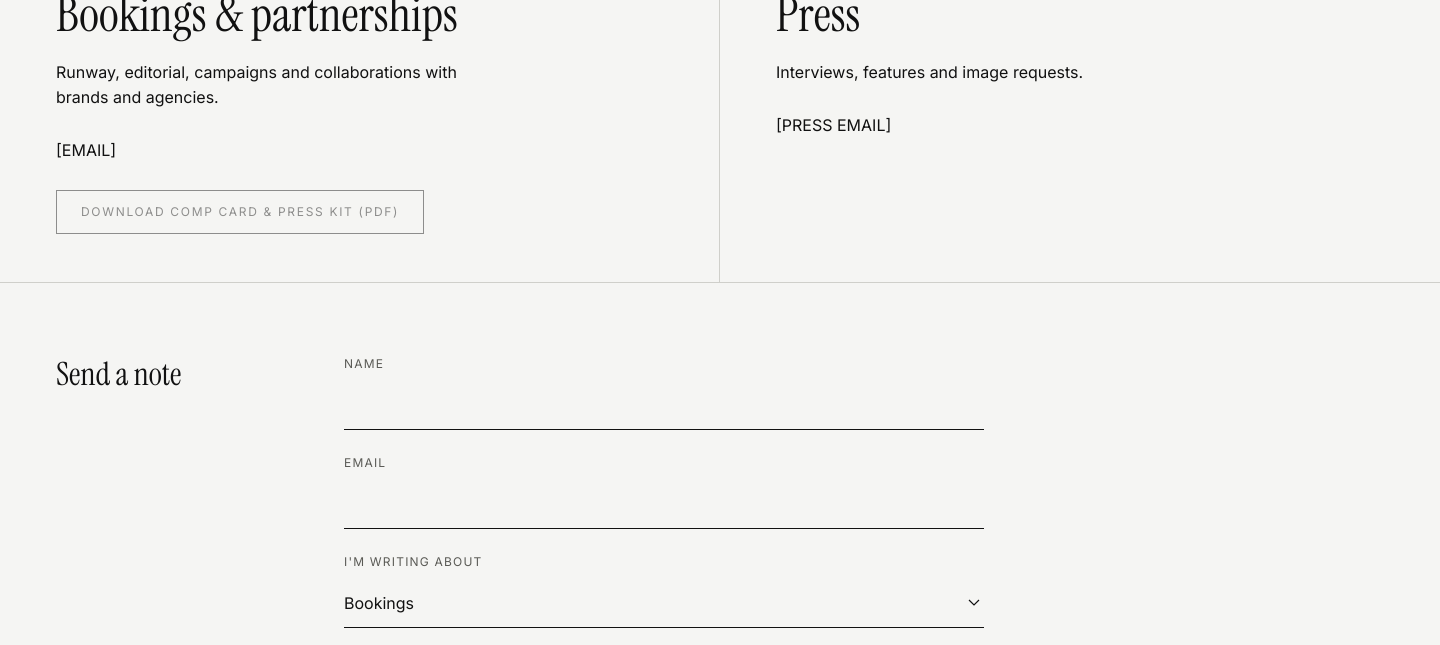
contact form › sends to the endpoint and thanks the sender
This screenshot has width=1440, height=645.
(page scrolled)
Type "Ada Obi" into the field labelled "Name" at {"x": 664, "y": 405}, box [344,381,984,430]
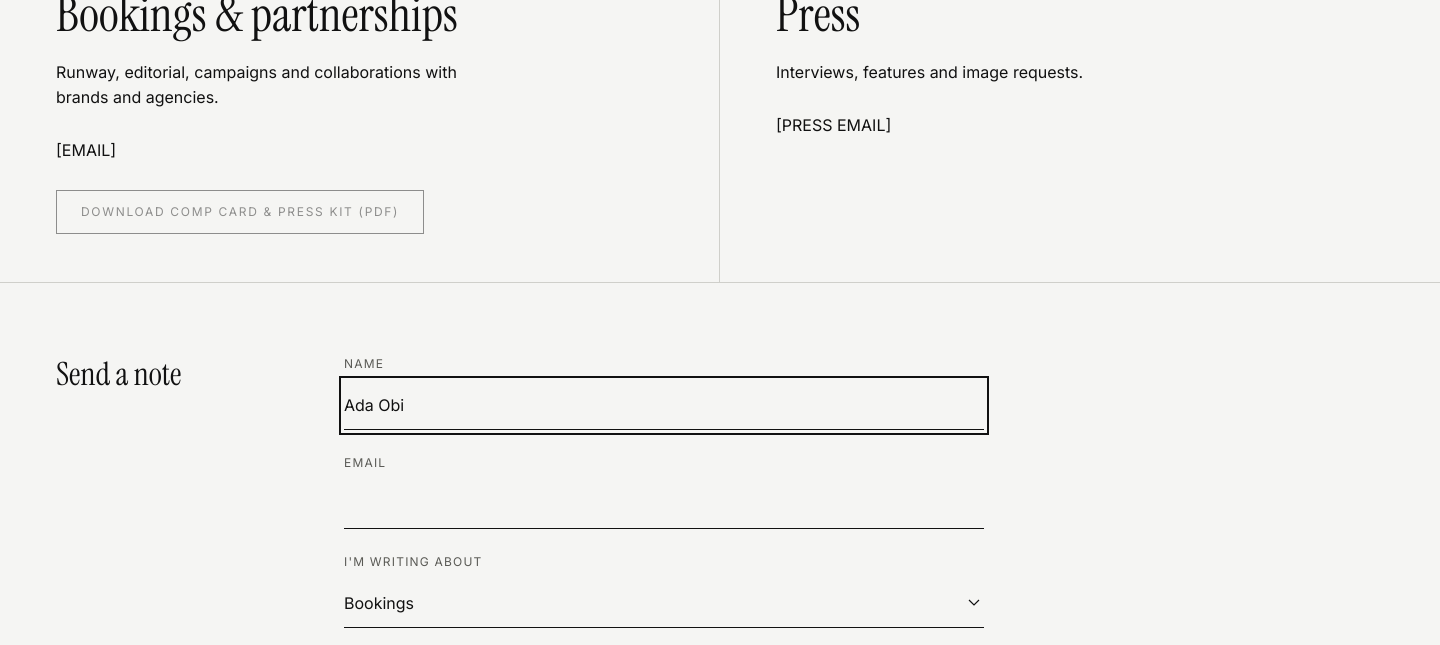
Type "ada@studio.test" into the field labelled "Email" at {"x": 664, "y": 504}, box [344,480,984,529]
(page scrolled)
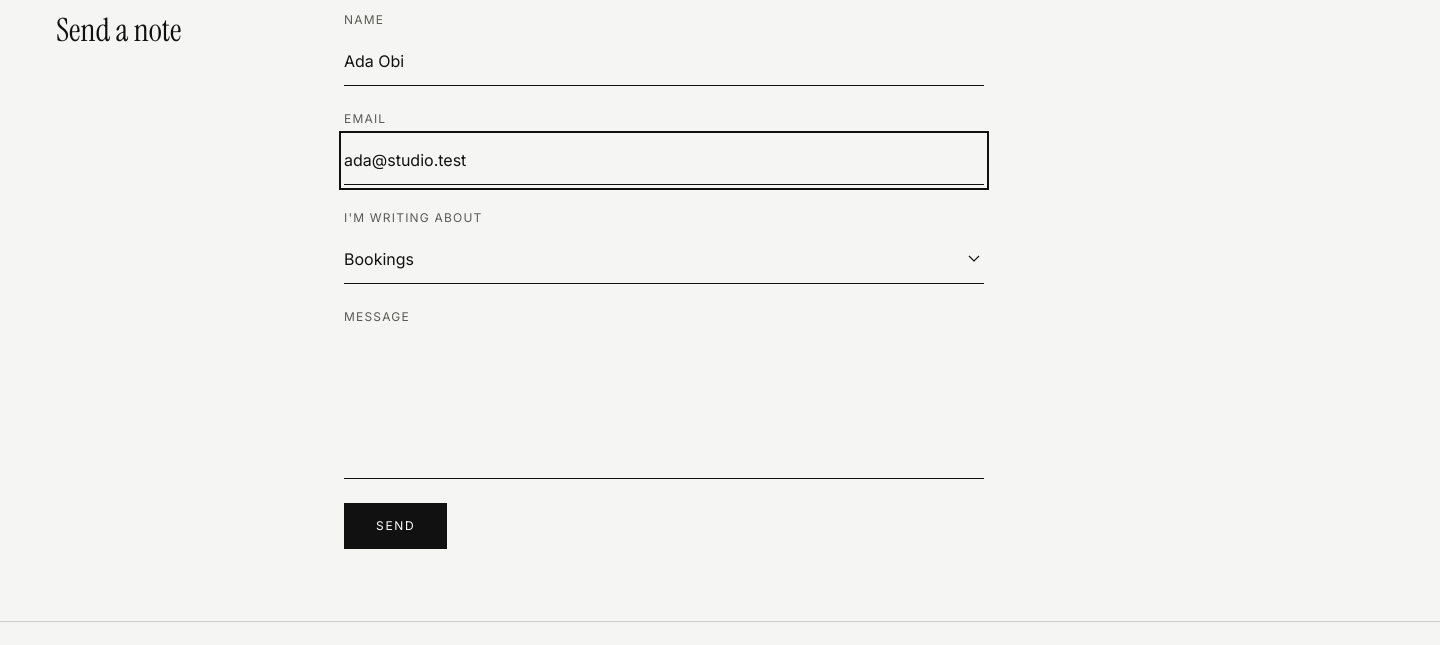
Type "Hello" into the text box labelled "Message" at {"x": 664, "y": 406}, box [344,334,984,479]
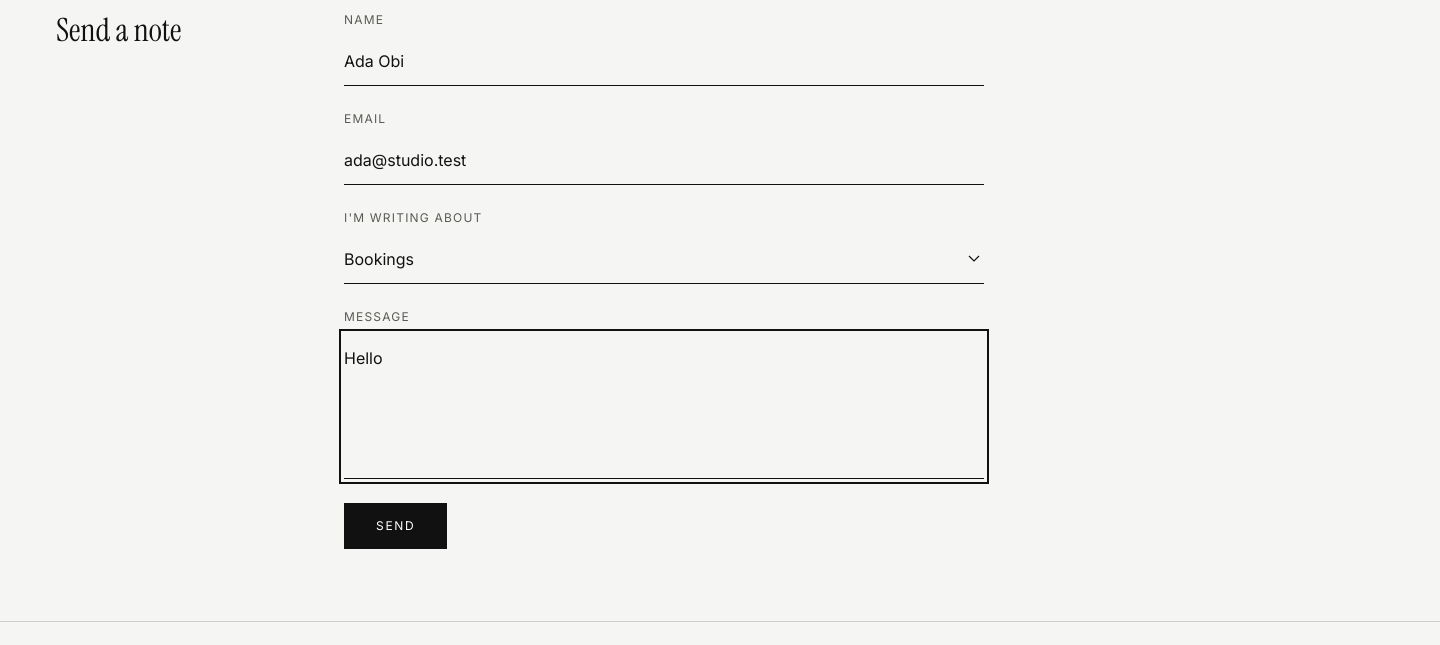
Select "Press" in the dropdown labelled "I'm writing about" at {"x": 664, "y": 259}, box [344,235,984,284]
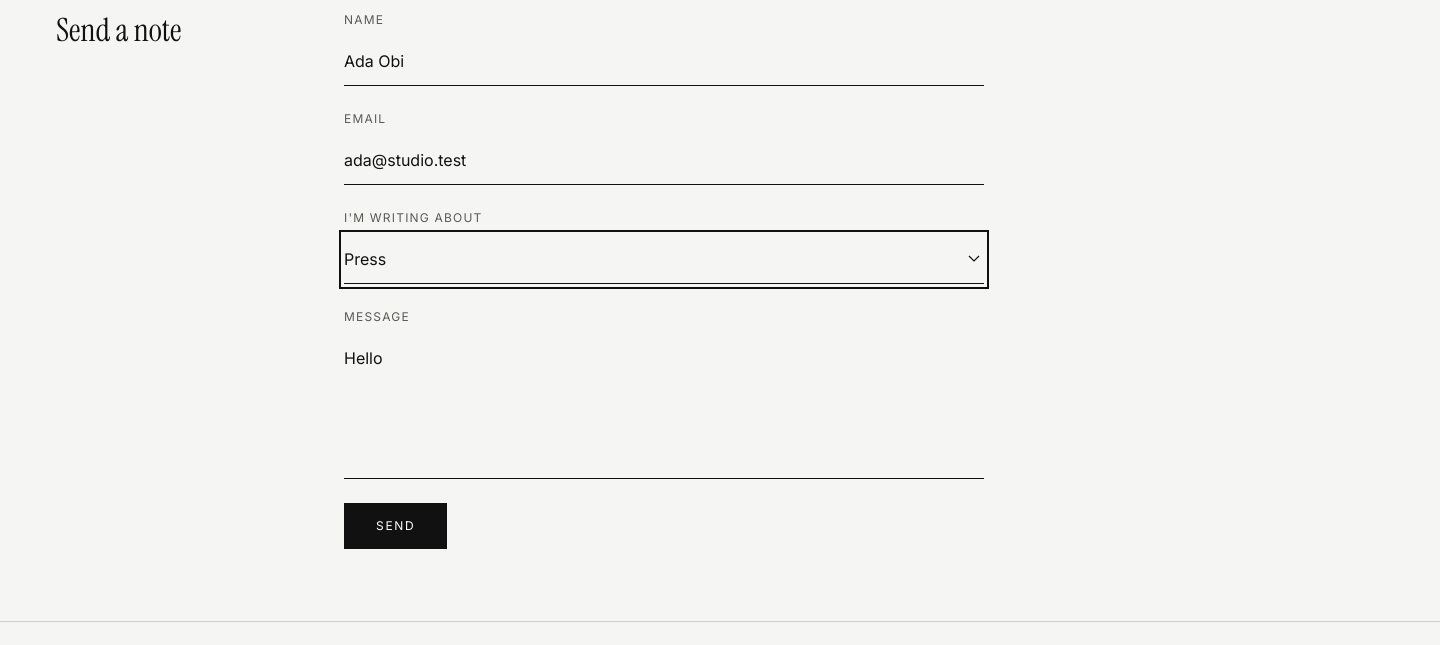
Click the button "Send" at {"x": 396, "y": 526}, box [344,503,447,549]
(page scrolled)
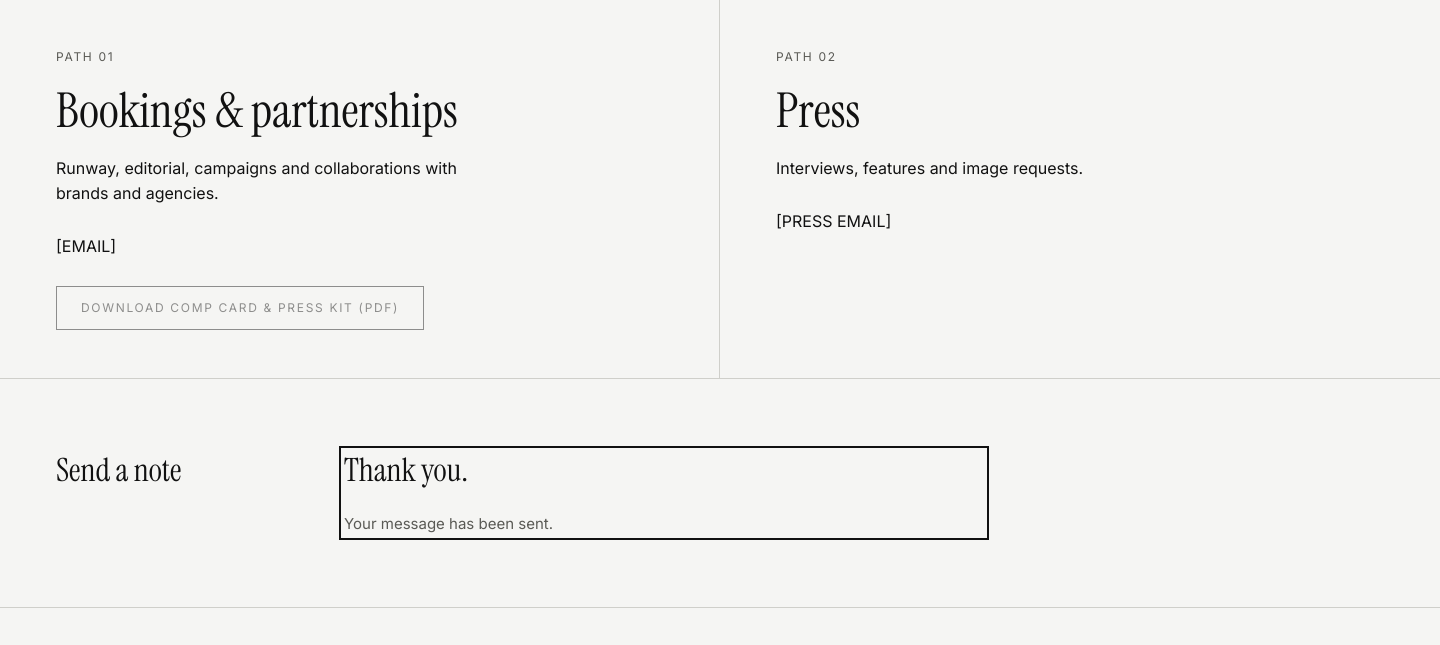
expect the text "Thank you." is shown: met, box [344,449,468,491]
